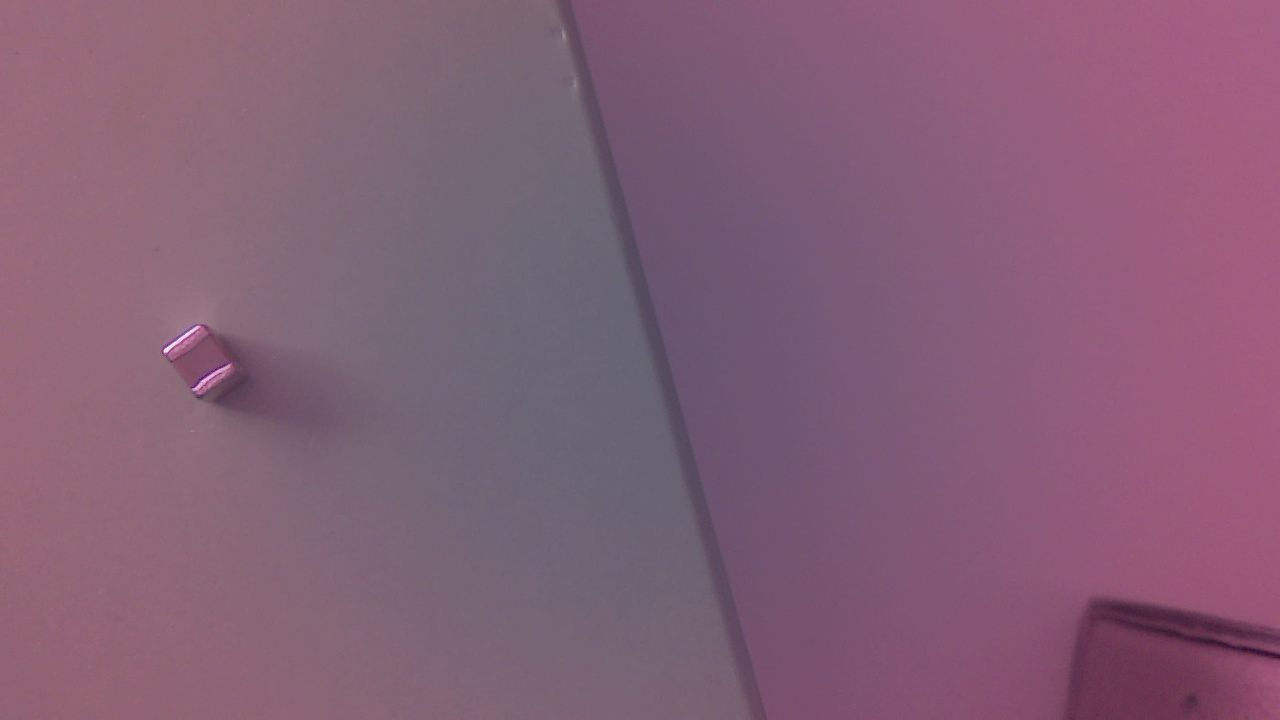Condensator: (164, 325, 248, 403)
